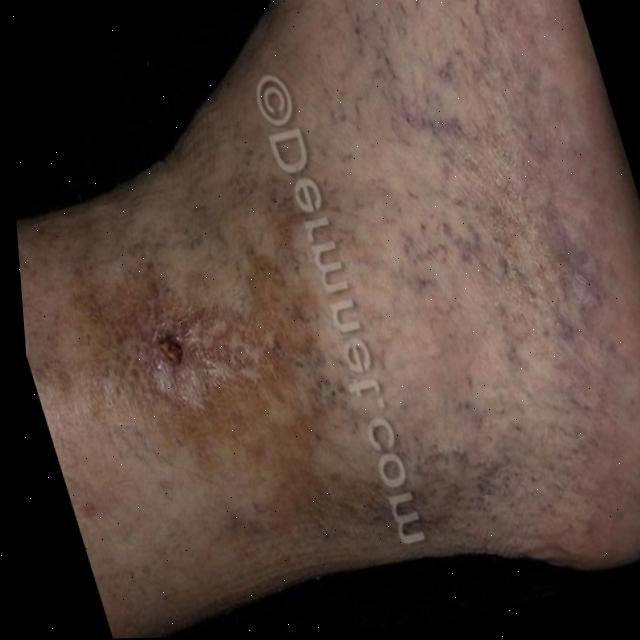Eczema: (63, 194, 485, 617)
